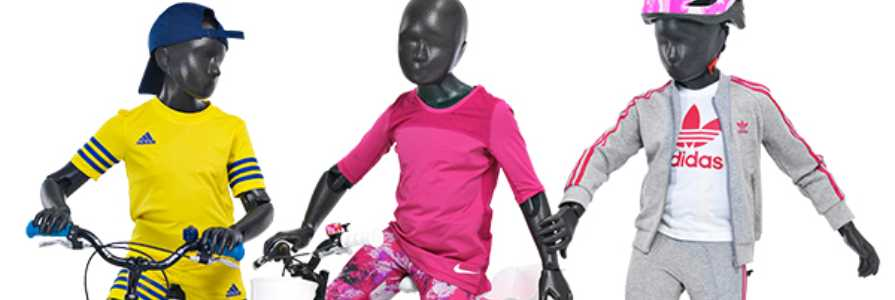person-like: (531, 1, 884, 300), (262, 1, 577, 300), (38, 2, 281, 300)
